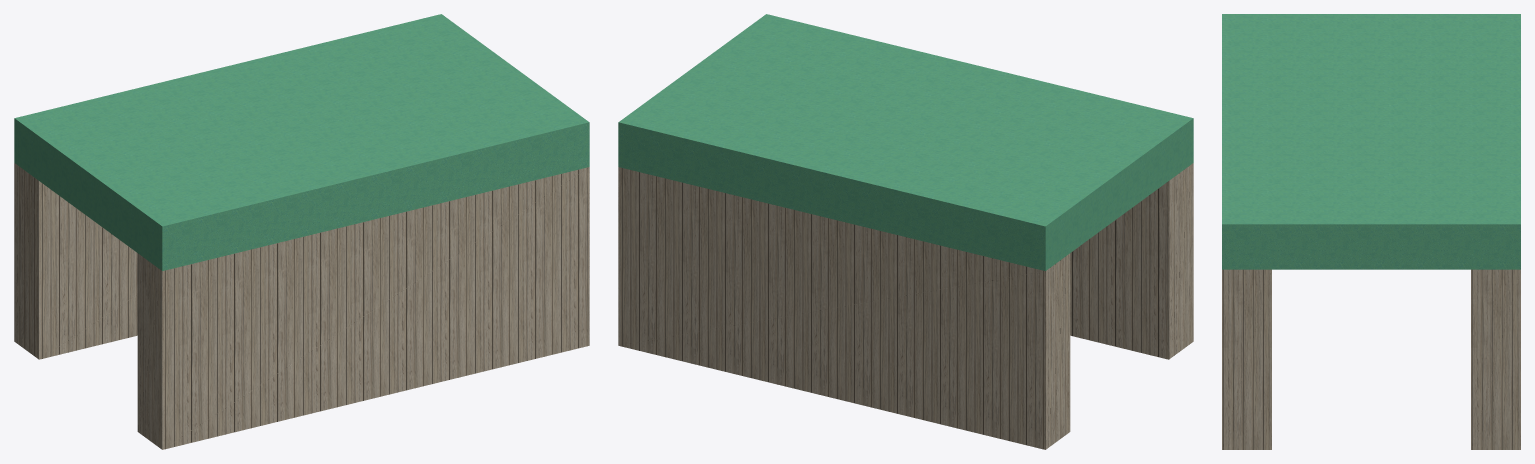
Rendered from corridor.fbx.
3 views of the same model, side by side, from view 1: azimuth 30°, elevation 25°; view 2: azimuth 150°, elevation 25°; view 3: azimuth 270°, elevation 25° (orthographic).
Parts seen in each view (by area): view 1: Cube.002, Cube, Cube.001; view 2: Cube.002, Cube.001, Cube; view 3: Cube.002, Cube, Cube.001.
Boxes of the visible parts, x1,y1,x2,y2 form: Cube.002: (14, 14, 589, 270); Cube: (137, 167, 589, 449); Cube.001: (14, 163, 137, 359); Cube.002: (618, 14, 1193, 270); Cube.001: (618, 167, 1070, 449); Cube: (1070, 163, 1193, 359); Cube.002: (1222, 14, 1520, 269); Cube: (1222, 269, 1271, 449); Cube.001: (1471, 269, 1520, 449).
Size of the model in its own units: 4000 by 2000 by 2400.
2 materials, 2 textured.
